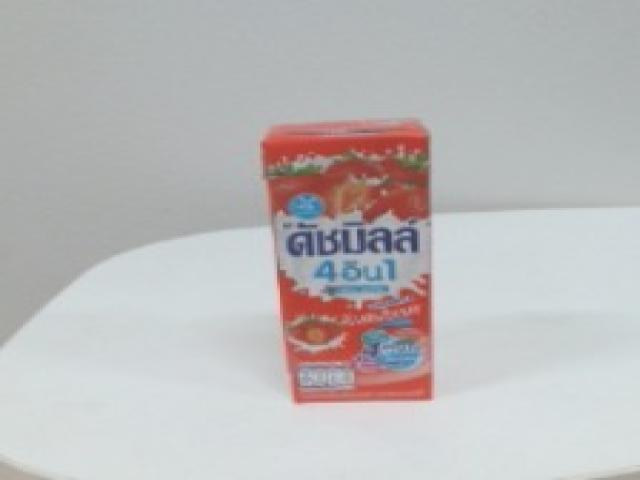drink_box: (262, 121, 432, 402)
